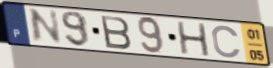9: (60, 10, 91, 49), (137, 15, 166, 56)
B: (98, 14, 134, 51)
C: (210, 24, 243, 60)
H: (175, 21, 213, 58)
N: (28, 8, 65, 45)
